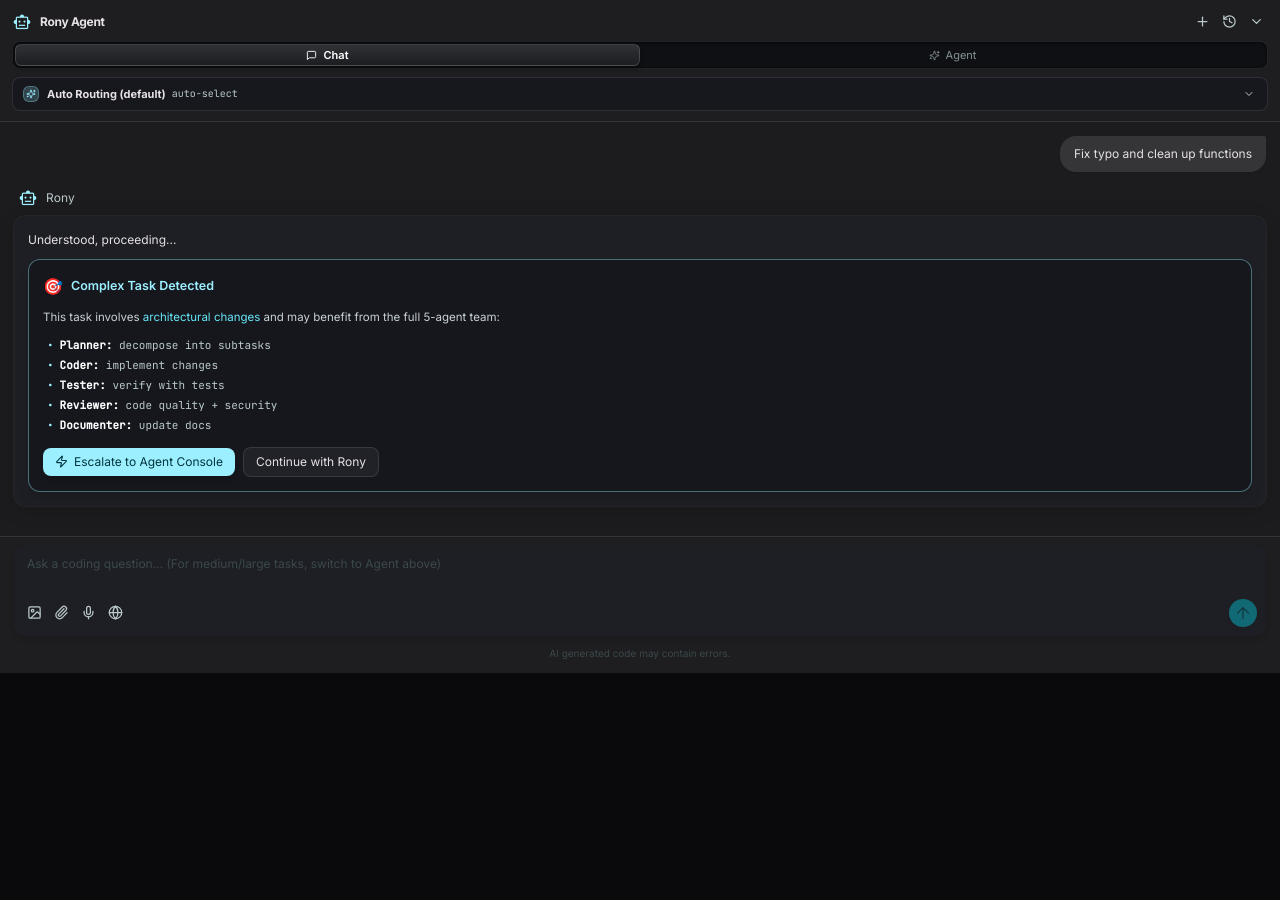
Test: Phase 7: Adaptive Orchestration Frontend Tests › test_continue_button_records_decline: clicking Continue logs escalation_declined and removes card
The width and height of the screenshot is (1280, 900).
Click the button with test id "continue-rony-btn": (311, 462) [243,447,379,477]
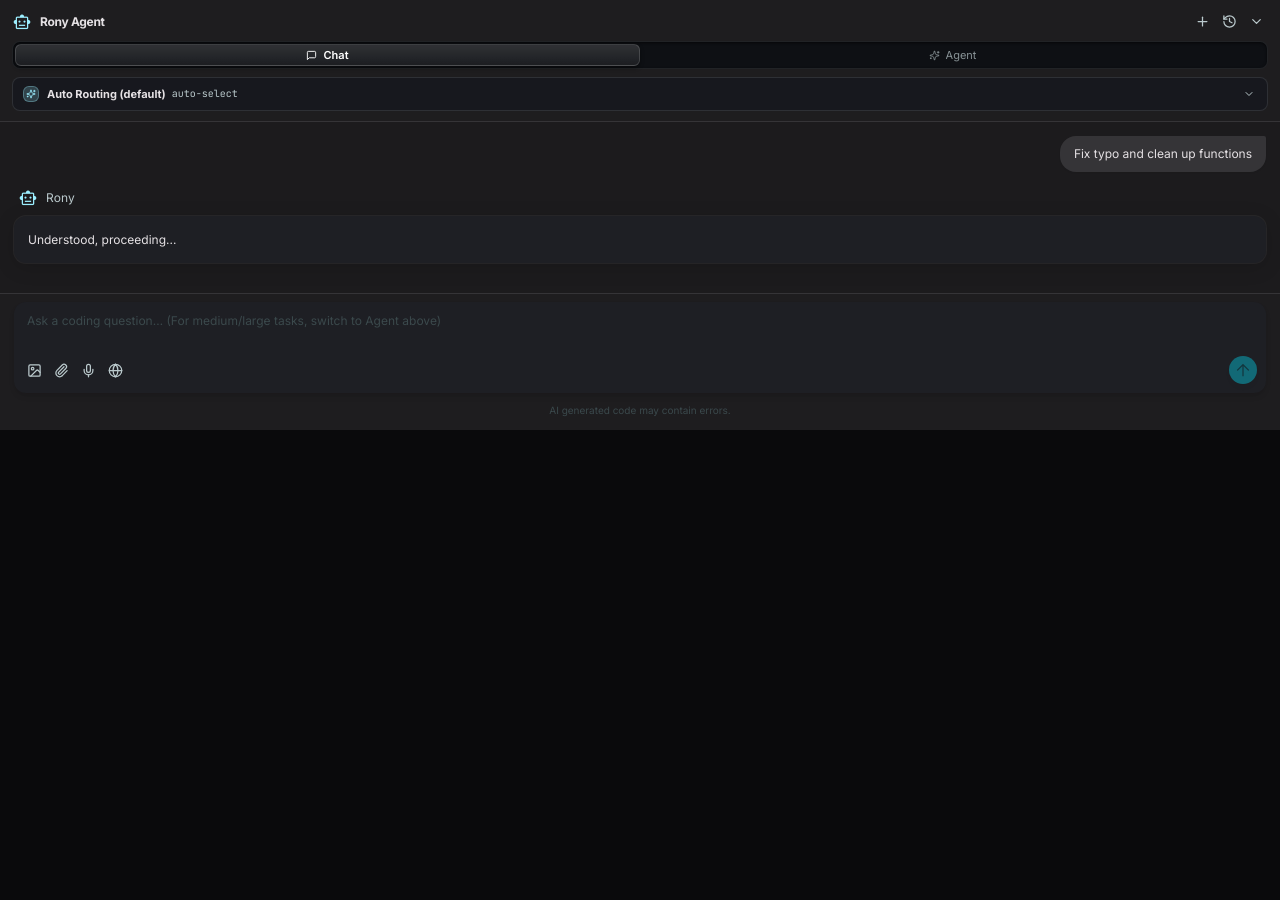
expect the element with test id "escalation-card" is gone: met
